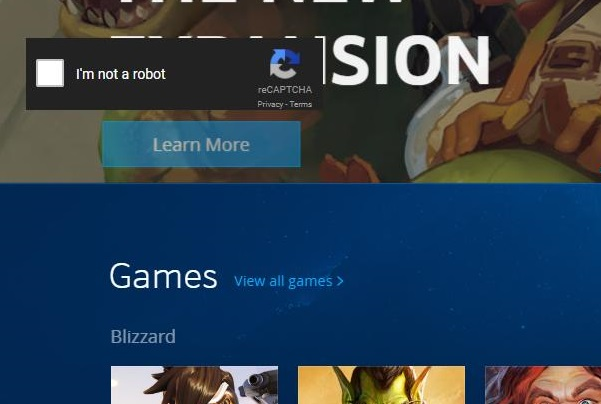captcha: (36, 58, 167, 86)
